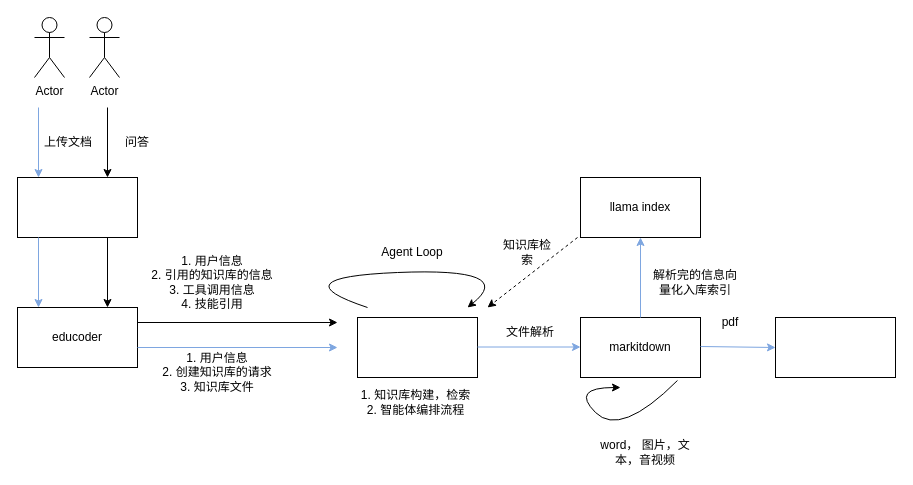
The diagram is 913 pixels wide and 485 high, and some of its shapes have lost their labels. Here are the shapes that lost their labels. From the top down, the centre of each, then its label:
the point at 77,207: 前端
the point at 417,347: aihub/deeptutor
the point at 835,347: mineru
